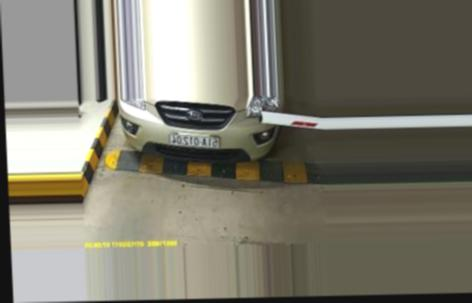License_Plate: (171, 134, 221, 149)
